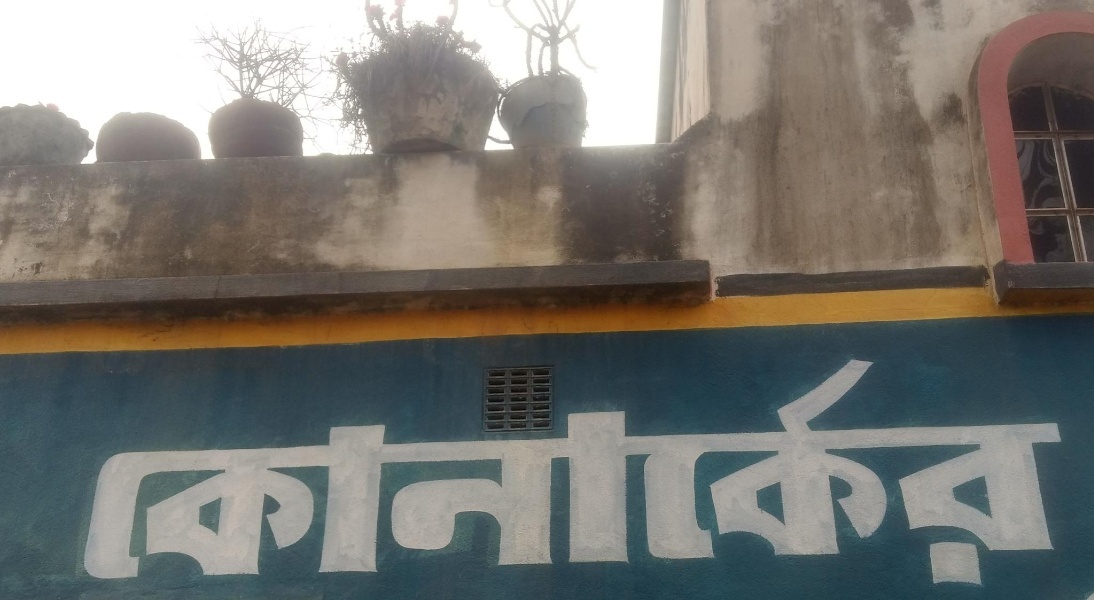text: (113, 344, 128, 596), (129, 344, 144, 596), (145, 344, 160, 596), (161, 344, 176, 596), (177, 344, 192, 596), (193, 344, 208, 596), (209, 344, 224, 596), (225, 344, 240, 596), (241, 344, 256, 596), (257, 344, 272, 596), (273, 344, 288, 596), (289, 344, 304, 596), (305, 344, 320, 596), (321, 344, 336, 596), (337, 344, 352, 596), (353, 344, 368, 596), (369, 344, 384, 596), (385, 344, 400, 596), (401, 344, 416, 596), (417, 344, 432, 596), (433, 344, 448, 596), (449, 344, 464, 596), (465, 344, 480, 596), (481, 344, 496, 596), (497, 344, 512, 596), (513, 344, 528, 596), (529, 344, 544, 596), (545, 344, 560, 596), (561, 344, 576, 596), (577, 344, 592, 596), (593, 344, 608, 596), (609, 344, 624, 596), (625, 344, 640, 596), (641, 344, 656, 596), (657, 344, 672, 596), (673, 344, 688, 596), (689, 344, 704, 596), (705, 344, 720, 596), (721, 344, 736, 596), (737, 344, 752, 596), (753, 344, 768, 596), (769, 344, 784, 596), (785, 344, 800, 596), (801, 344, 816, 596), (817, 344, 832, 596), (833, 344, 848, 596), (849, 344, 864, 596), (865, 344, 880, 596), (881, 344, 896, 596), (897, 344, 912, 596), (913, 344, 928, 596), (929, 344, 944, 596), (945, 344, 960, 596), (961, 344, 976, 596), (977, 344, 992, 596), (993, 344, 1008, 596), (1009, 344, 1024, 596), (1025, 344, 1040, 596), (1041, 344, 1056, 596), (1057, 344, 1067, 596), (103, 344, 112, 596)
